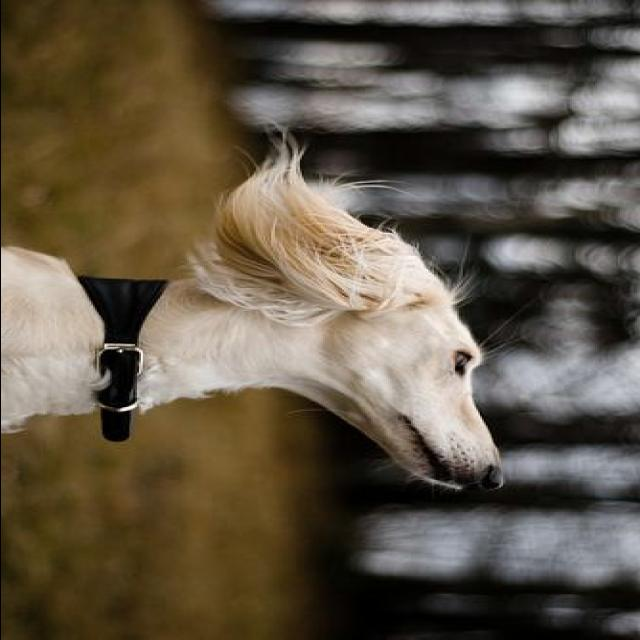saluki: (2, 120, 506, 492)
